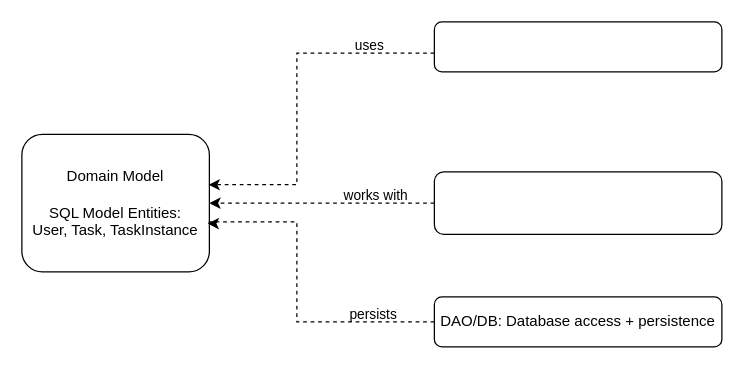
This 744x369 diagram has some shape labels left out. The box of each missing label's shape, as (x1, y1, x2, y2) in pixels:
Business Logic: Services: (433, 171, 722, 234)
UI: NiceGUI pages + Controller: (433, 21, 722, 72)
